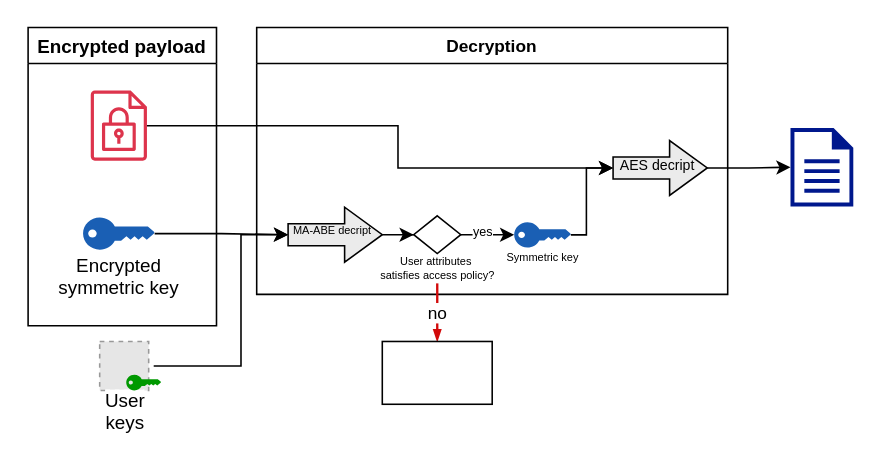
The diagram is 885 pixels wide and 463 high, and some of its shapes have lost their labels. Grey dashed boxes stand in for pictures. Here are the shapes that lost their labels. From the top down, the centre of each, then its label:
At (x=118, y=124): "Cyphertext".
At (x=821, y=166): "Plaintext".
At (x=436, y=372): "Decryption fails".
